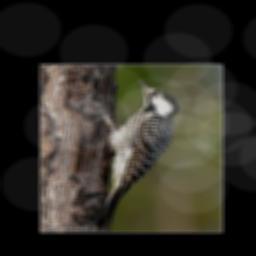Woodpecker: (84, 78, 179, 227)
